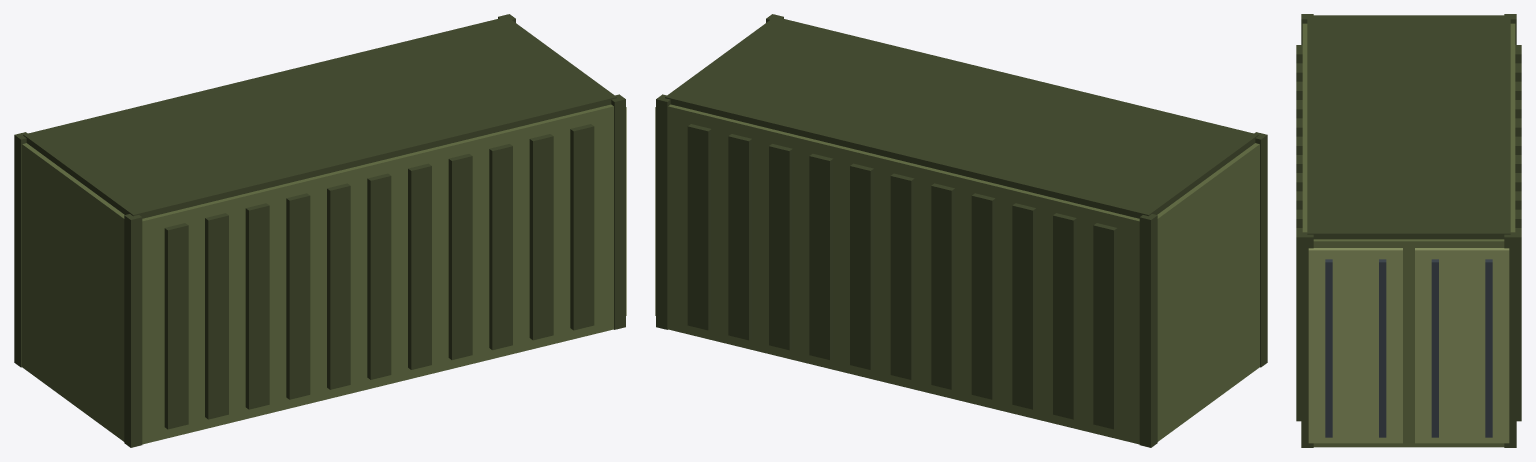
The model's file is env_container_olive.fbx.
3 views of the same model, side by side, from view 1: azimuth 30°, elevation 25°; view 2: azimuth 150°, elevation 25°; view 3: azimuth 270°, elevation 25° (orthographic). The views are drawn at different scales.
Parts seen in each view (by area): view 1: env_container_olive; view 2: env_container_olive; view 3: env_container_olive.
Part boxes in pixels (bbox=[...]): env_container_olive: bbox=[14, 14, 626, 447]; env_container_olive: bbox=[655, 14, 1267, 447]; env_container_olive: bbox=[1296, 14, 1521, 447].
Size of the model in its own units: 2210 by 955 by 920.
